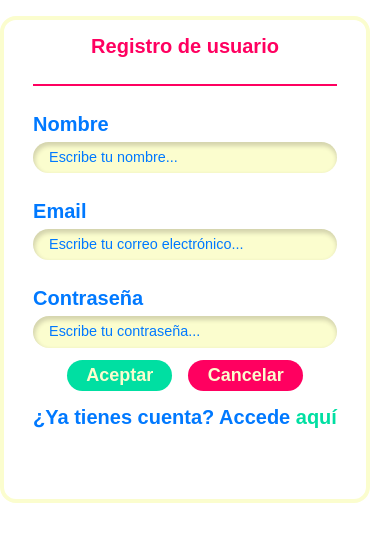
FormRegister › displays error messages when registration fails
Click the button "Aceptar". click: (120, 375)
box: [67,360,172,391]
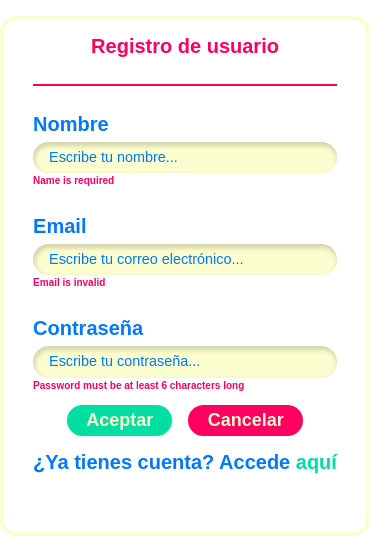
Check: the text "Name is required" is shown, box [33,175,114,186]
Check: the text "Email is invalid" is shown, box [33,277,105,288]
Check: the text "Password must be at least 6 characters long" is shown, box [33,380,244,390]
